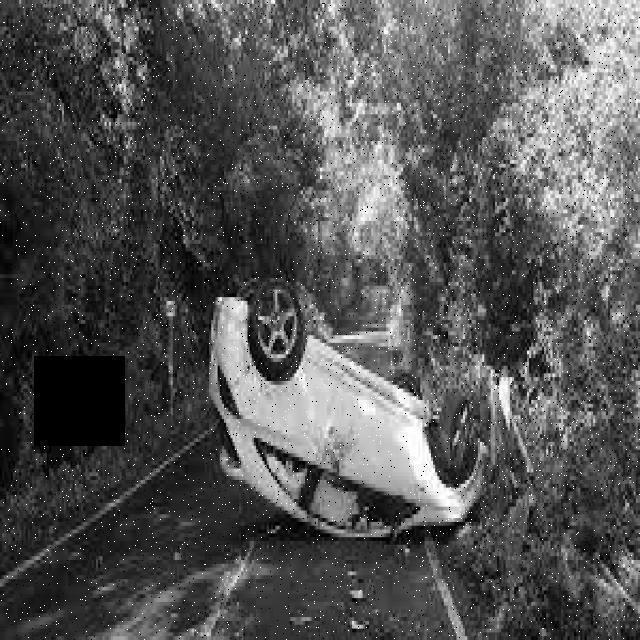accident: (204, 272, 490, 543)
